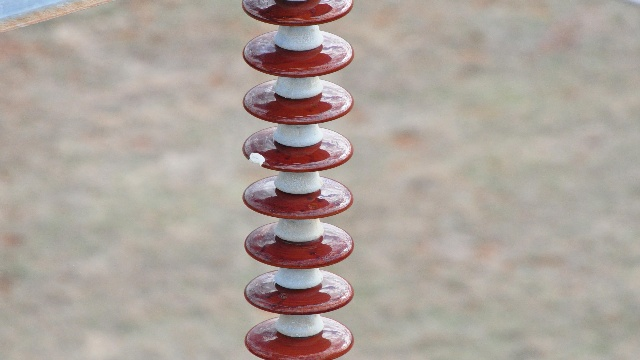broken_local: (248, 152, 268, 168)
insulator_unspecified: (240, 0, 356, 357)
